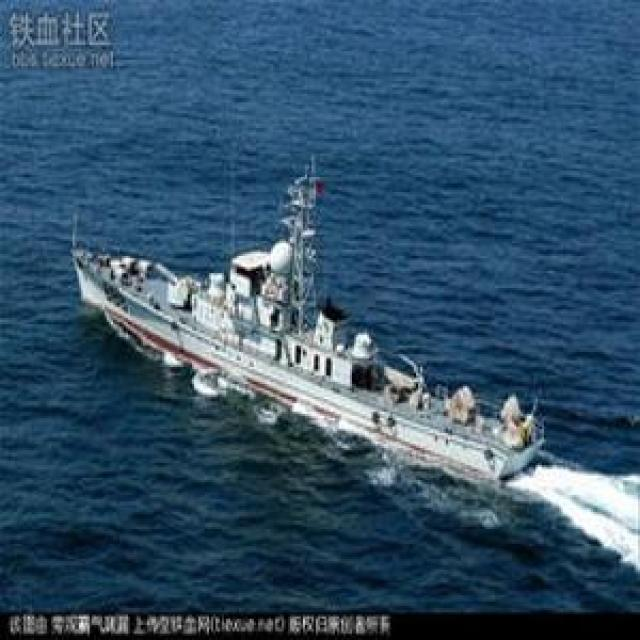navalvessels: (52, 172, 558, 520)
